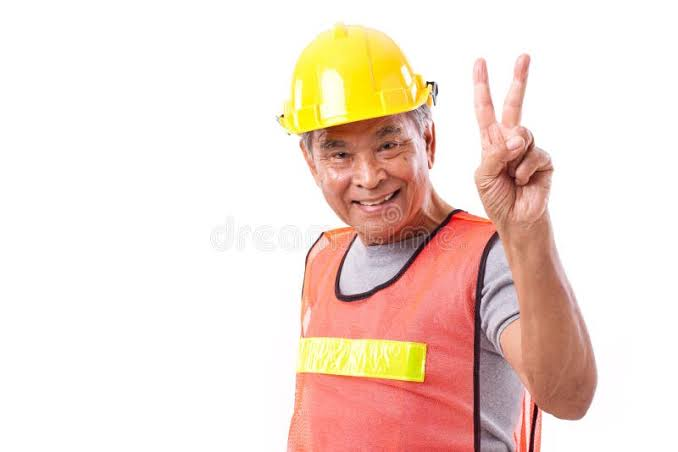peace_sign: (461, 48, 568, 221)
